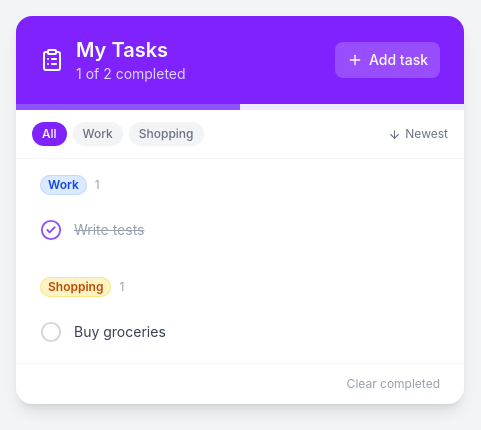
Test: TodoList › filter › filtering by a category shows only that category
Click the button with aria-label "Filter: Shopping".
click(166, 134)  # box [129,122,204,146]
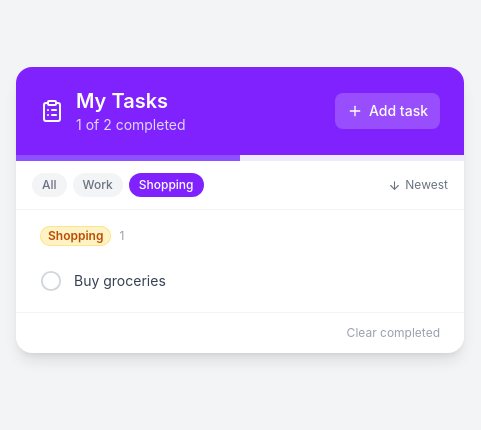
Check: the text "Buy groceries" is shown, box [74,272,166,289]
Check: the text "Write tests" is gone
